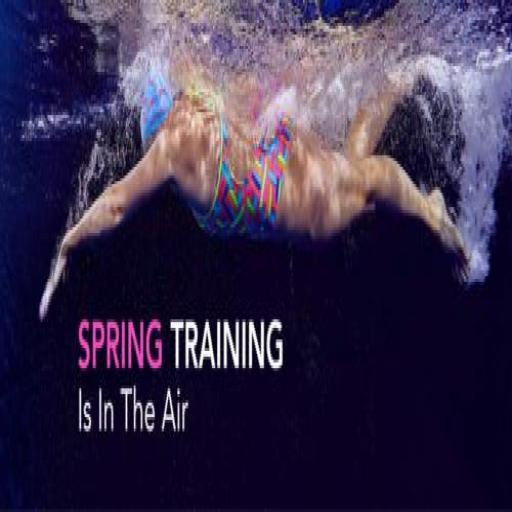swimming: (36, 55, 472, 325)
